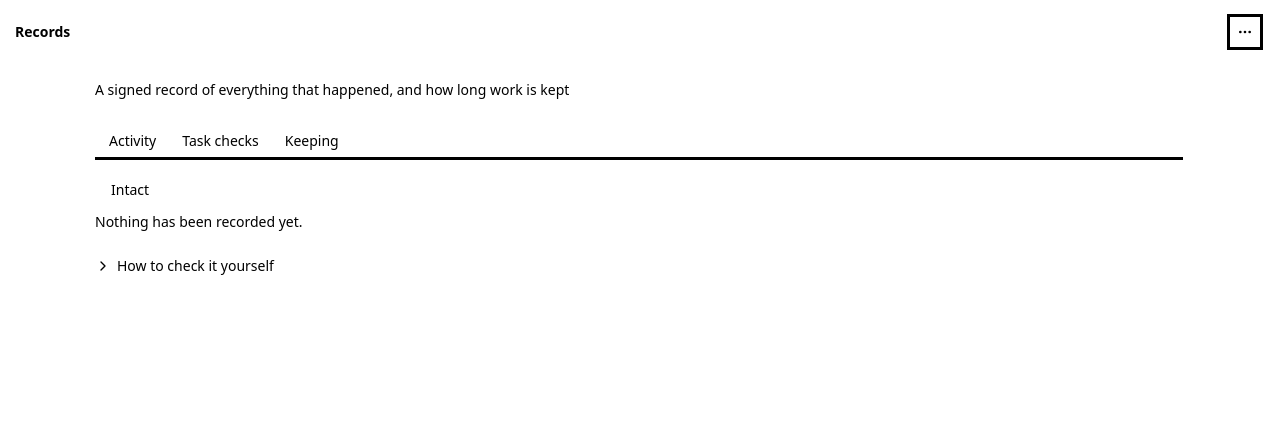
Test: the activity tab › says how to check the record, with the head to keep
Step 1. Click the button "How to check it yourself" → (184, 266), box [95, 256, 274, 276]
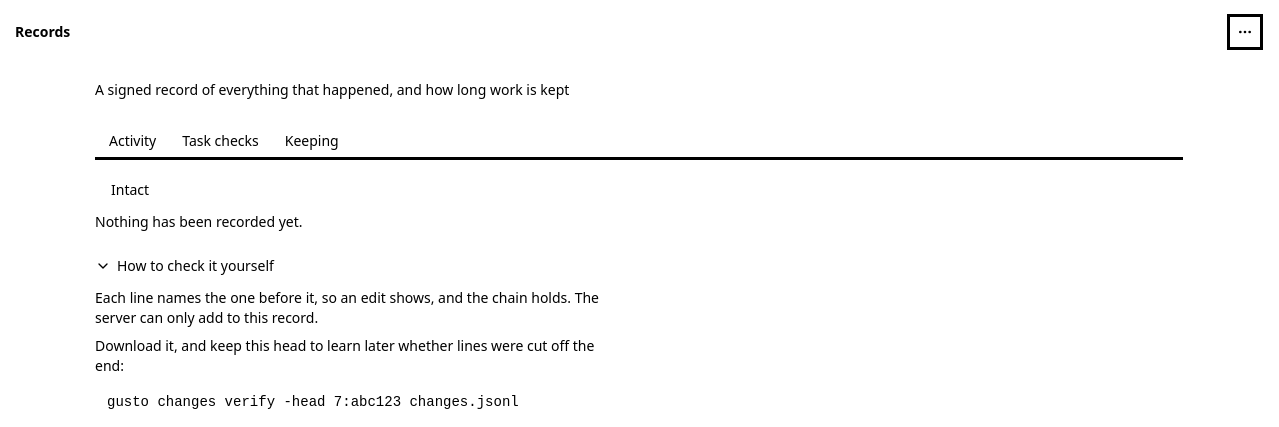
Now the text "Each line names the one before it, so an edit shows, and the chain holds." is shown, box [95, 288, 599, 327]
Now the text "gusto changes verify -head 7:abc123 changes.jsonl" is shown, box [107, 394, 519, 410]
